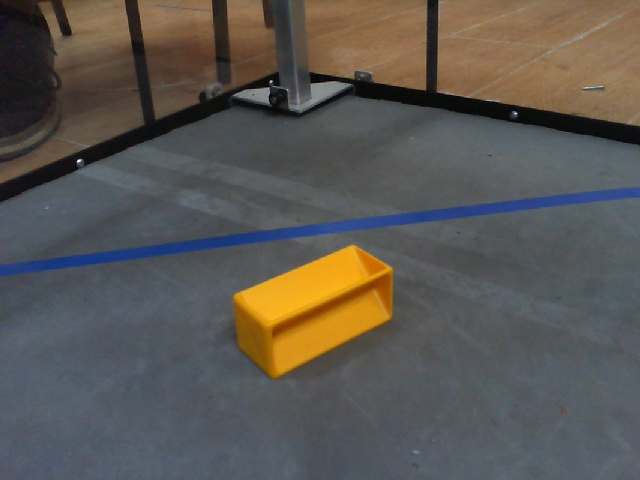YellowSample: (227, 240, 400, 386)
